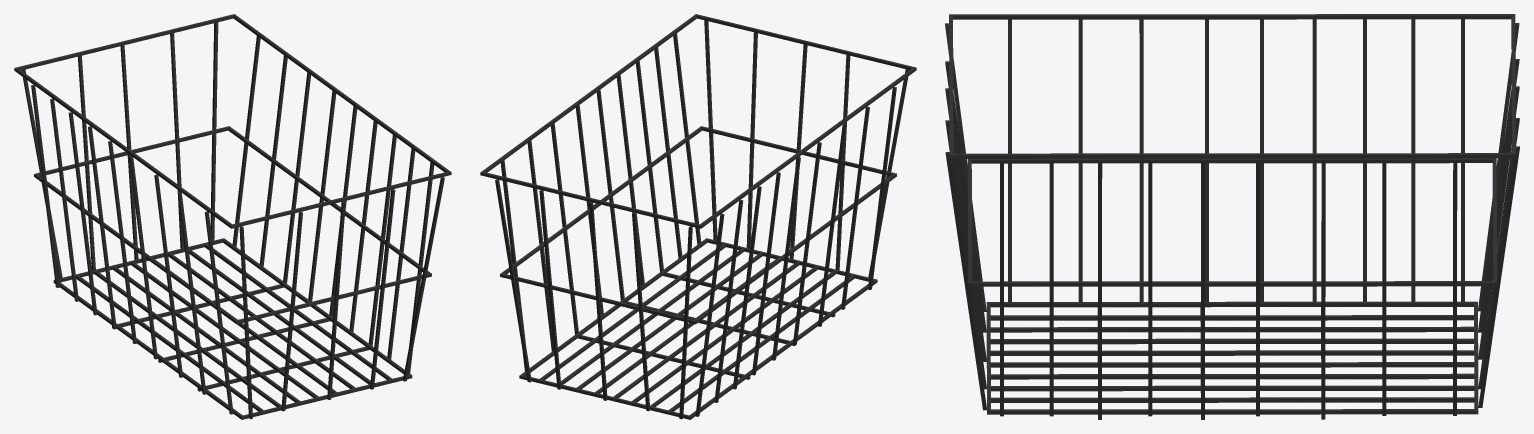
Rendered from SM_Cage_1.fbx.
3 renders of one model, left to right at view 1: azimuth 30°, elevation 25°; view 2: azimuth 150°, elevation 25°; view 3: azimuth 270°, elevation 25°, orthographic. The views are drawn at different scales.
Visible parts, largest first — view 1: Cage; view 2: Cage; view 3: Cage.
Boxes of the visible parts, x1,y1,x2,y2 form: Cage: [14, 14, 451, 419]; Cage: [480, 14, 916, 419]; Cage: [945, 14, 1519, 419].
Bounding box in the file's own units: 0.1027 × 0.0924 × 0.1726.
Materials: 1 (1 with a texture image).
